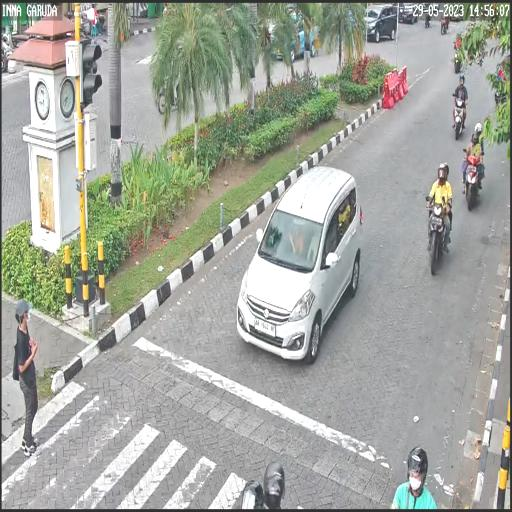mobil: (236, 163, 364, 363)
motor: (424, 193, 453, 275), (461, 148, 485, 211), (452, 89, 468, 139)
